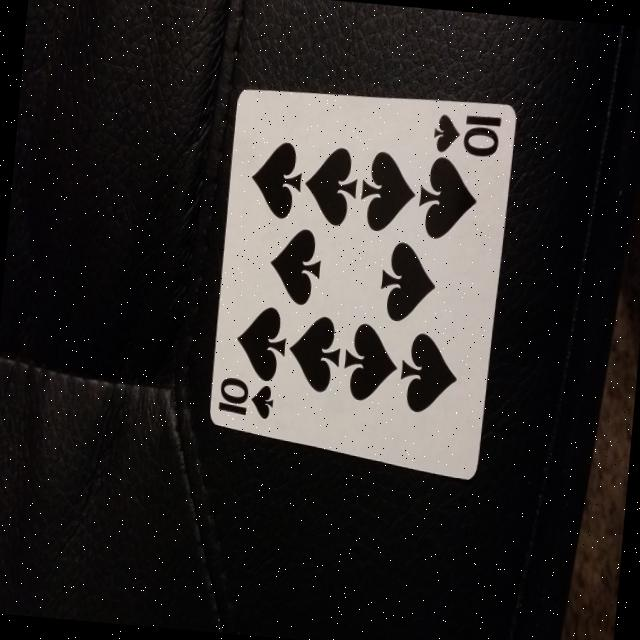10s: (425, 107, 505, 163), (210, 374, 276, 424)
